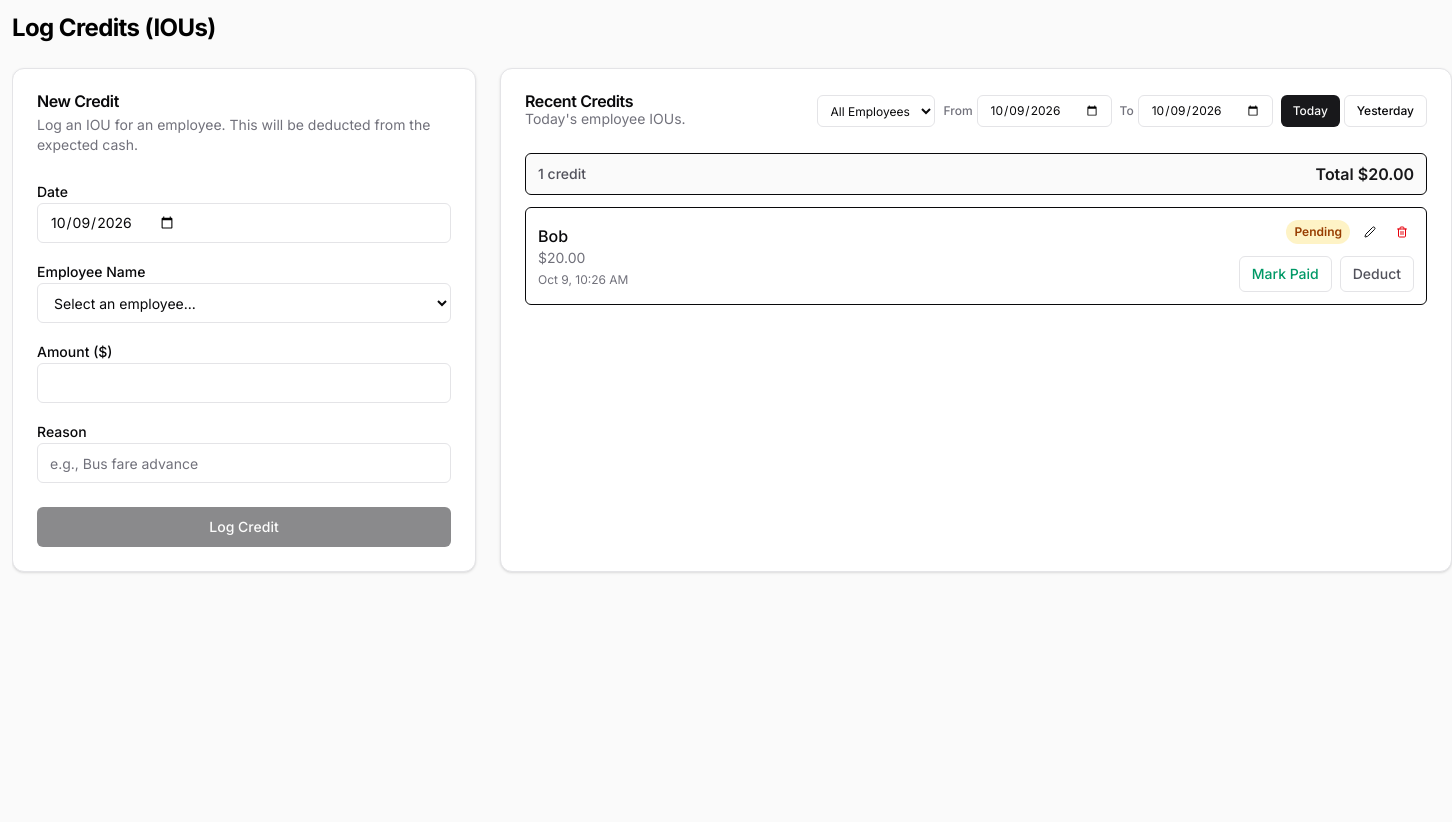
Test: Credits - Edit & Failure Paths › cancels an edit and resets the form
What coordinates should you click on to do the following:
click the 3rd button
I would click on:
 (1370, 232)
Its box is [1358,220,1382,244].
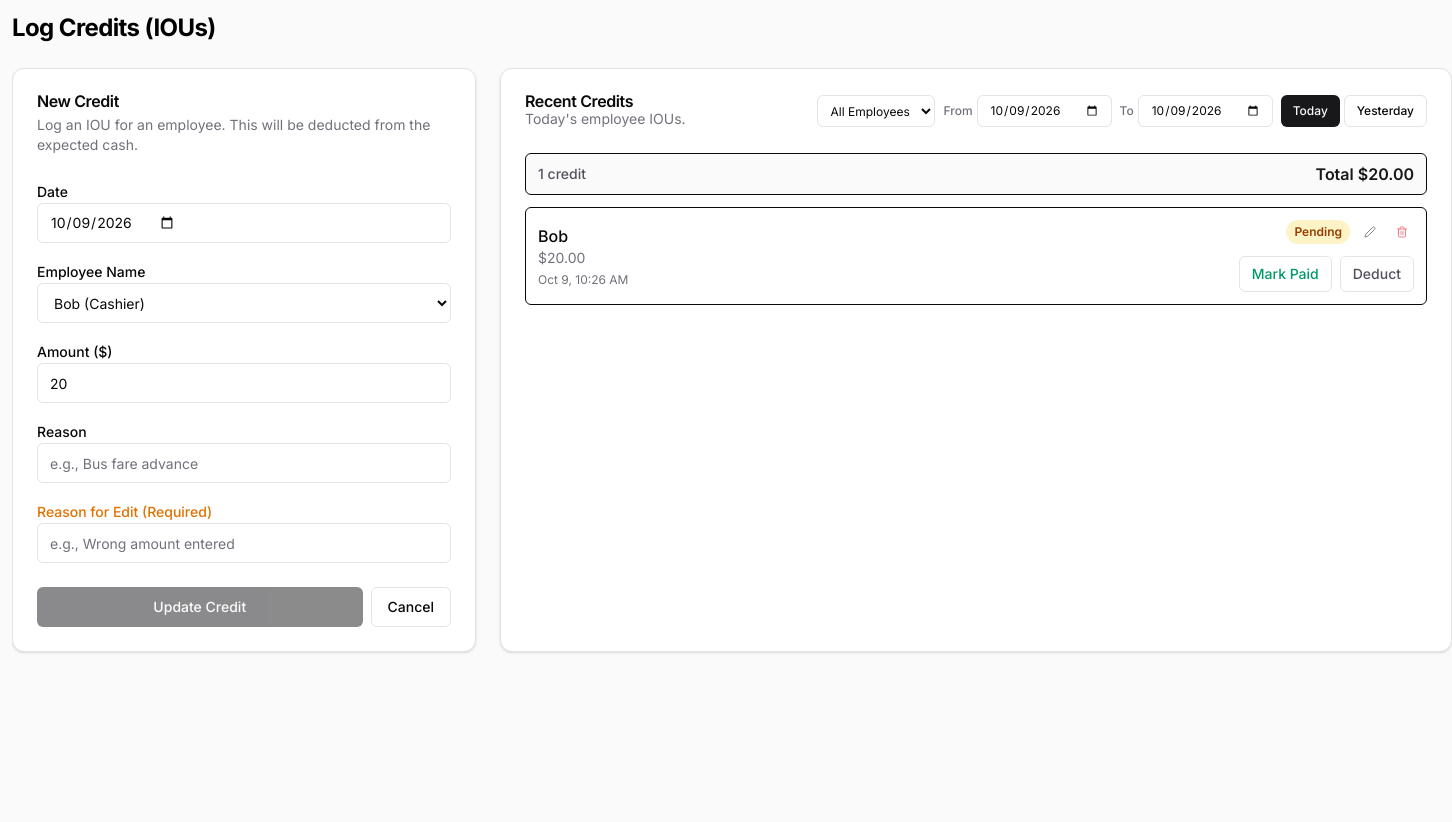
Check: the button "Update Credit" is shown, box [37,587,362,627]
What coordinates should you click on to do the following:
click the button "Cancel"
I would click on:
 (411, 607)
Its box is [370,587,451,627].
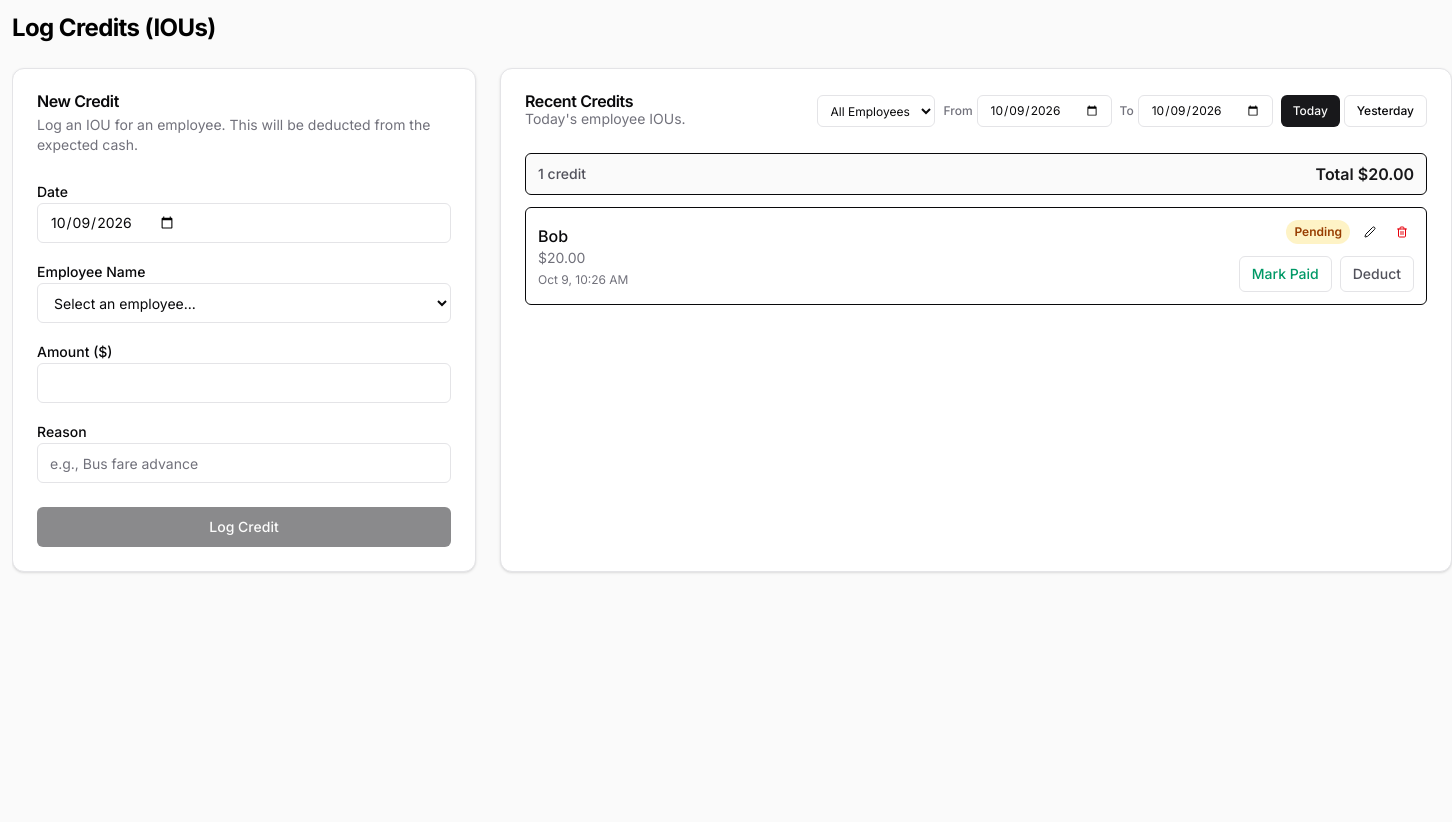
Check: the button "Update Credit" is gone
Check: the button "Log Credit" is shown, box [37,507,451,547]
